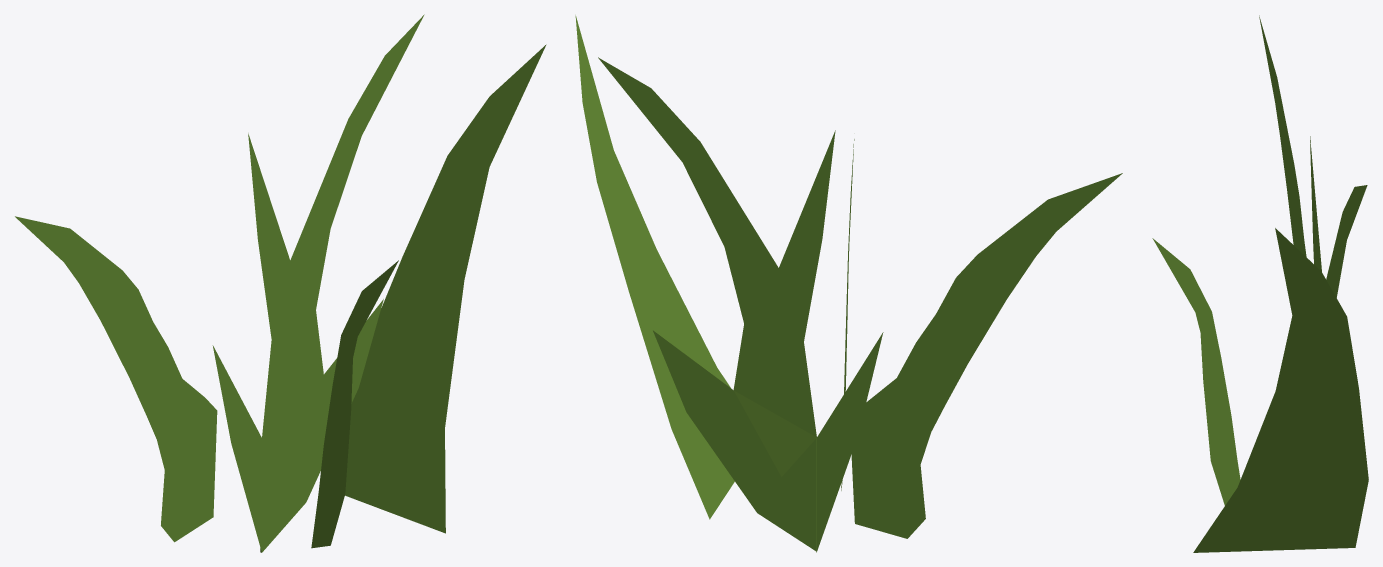
Rendered from trawa.fbx.
3 renders of one model, left to right at view 1: azimuth 30°, elevation 25°; view 2: azimuth 150°, elevation 25°; view 3: azimuth 270°, elevation 25°, orthographic. The views are drawn at different scales.
Parts seen in each view (by area): view 1: Plane.003; view 2: Plane.003; view 3: Plane.003.
Boxes of the visible parts, x1=… form: Plane.003: x1=15, y1=14, x2=546, y2=552; Plane.003: x1=575, y1=15, x2=1122, y2=552; Plane.003: x1=1152, y1=15, x2=1368, y2=552.
Bounding box in the file's own units: 7.52 × 6.25 × 2.81.
